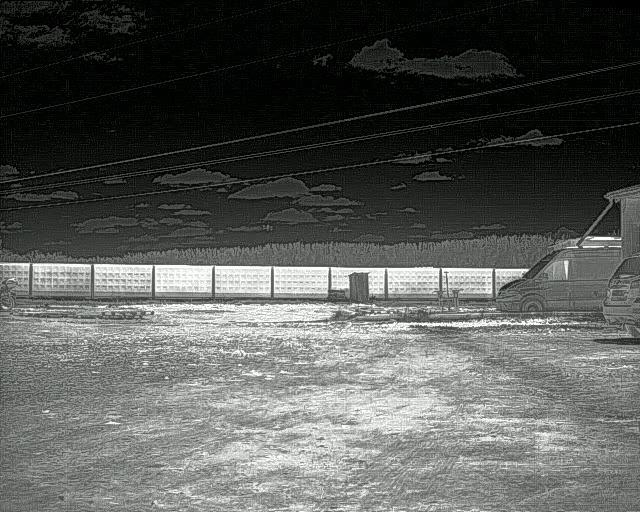ufo-thermal: (261, 223, 275, 233)
